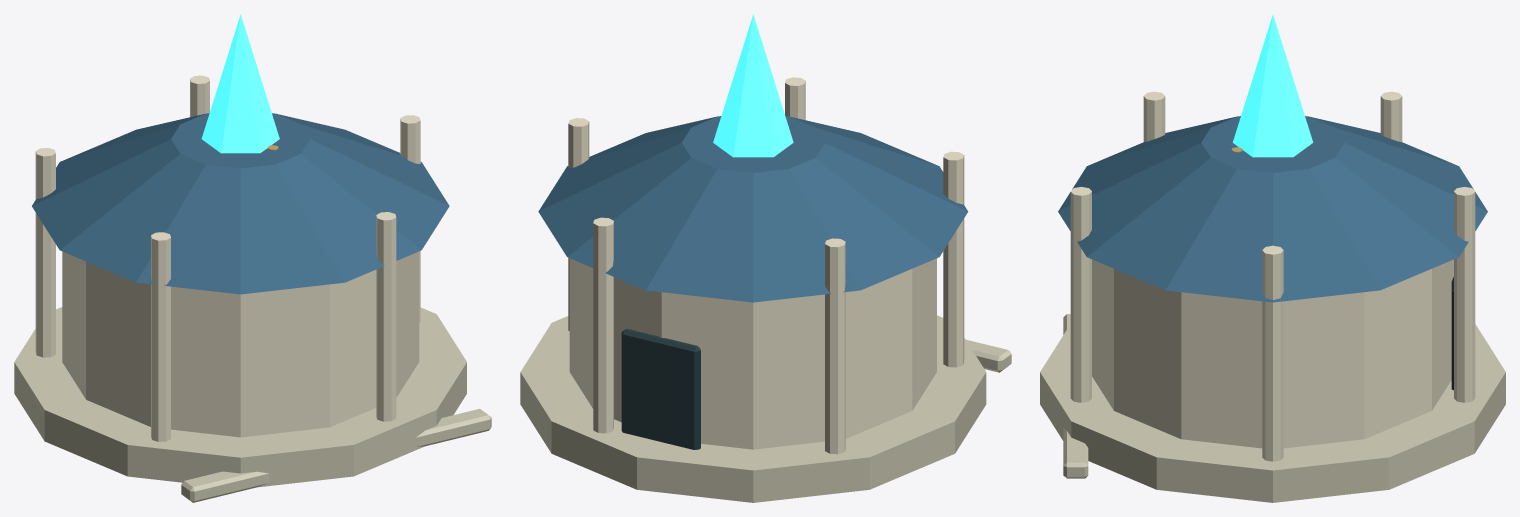
The model's file is level_09.glb.
3 views of the same model, side by side, from view 1: azimuth 30°, elevation 25°; view 2: azimuth 150°, elevation 25°; view 3: azimuth 270°, elevation 25° (orthographic). The views are drawn at different scales.
Visible parts, largest first — view 1: mage_guild — level 09; view 2: mage_guild — level 09; view 3: mage_guild — level 09.
Boxes of the visible parts, x1,y1,x2,y2 form: mage_guild — level 09: (14,14,491,502); mage_guild — level 09: (520,14,1011,502); mage_guild — level 09: (1040,15,1505,502).
Size of the model in its own units: 5.2 by 4.81 by 5.2.
